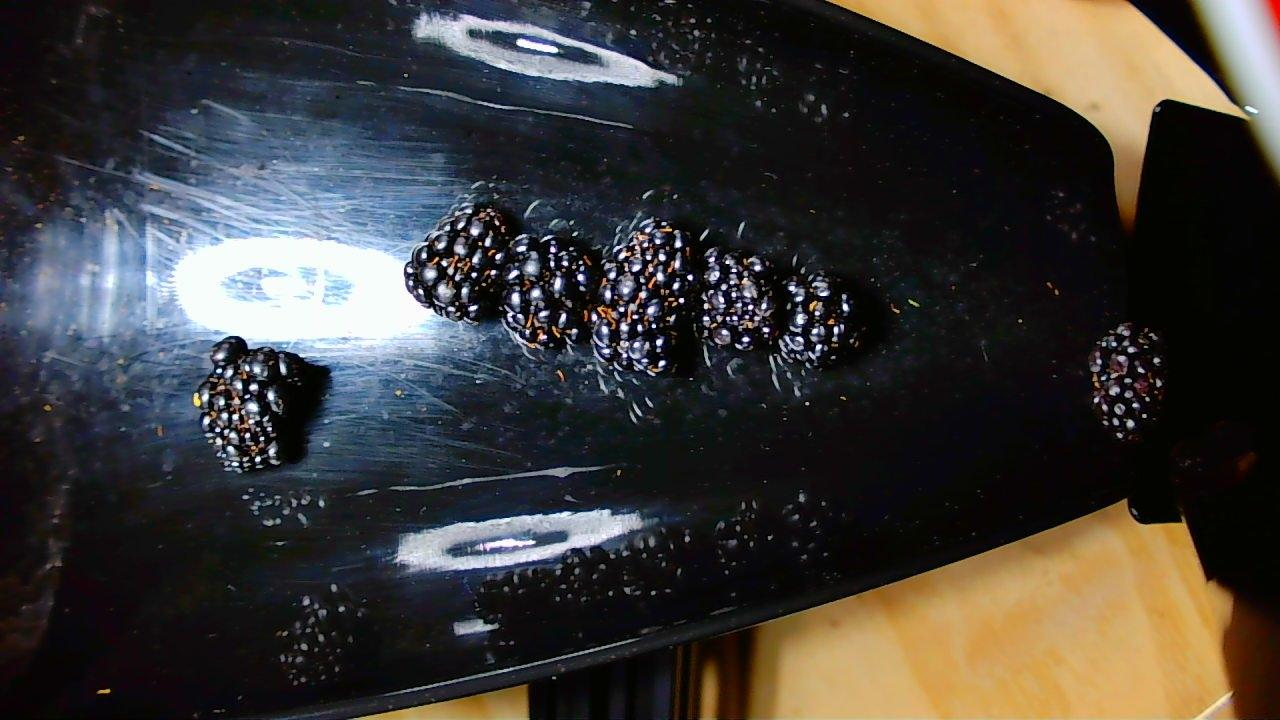berry: (198, 342, 323, 474), (591, 218, 688, 382), (404, 194, 522, 320), (510, 231, 592, 349), (772, 260, 858, 362), (1092, 323, 1164, 444), (699, 245, 778, 351)
